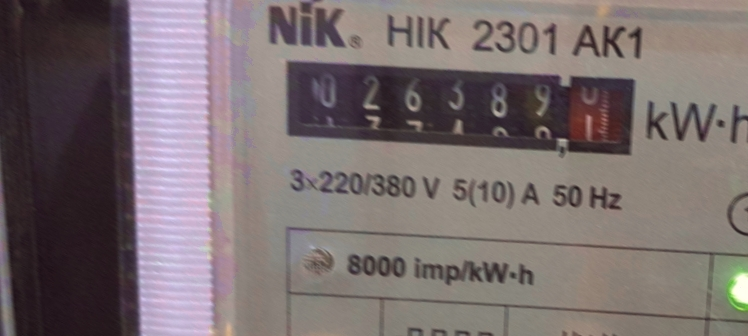0: (314, 71, 340, 112), (579, 86, 599, 108)
1: (581, 113, 596, 145)
2: (358, 73, 385, 114)
3: (446, 79, 465, 114)
6: (402, 75, 423, 116)
8: (488, 81, 511, 121)
9: (531, 84, 552, 119)
screen: (266, 42, 652, 175)
